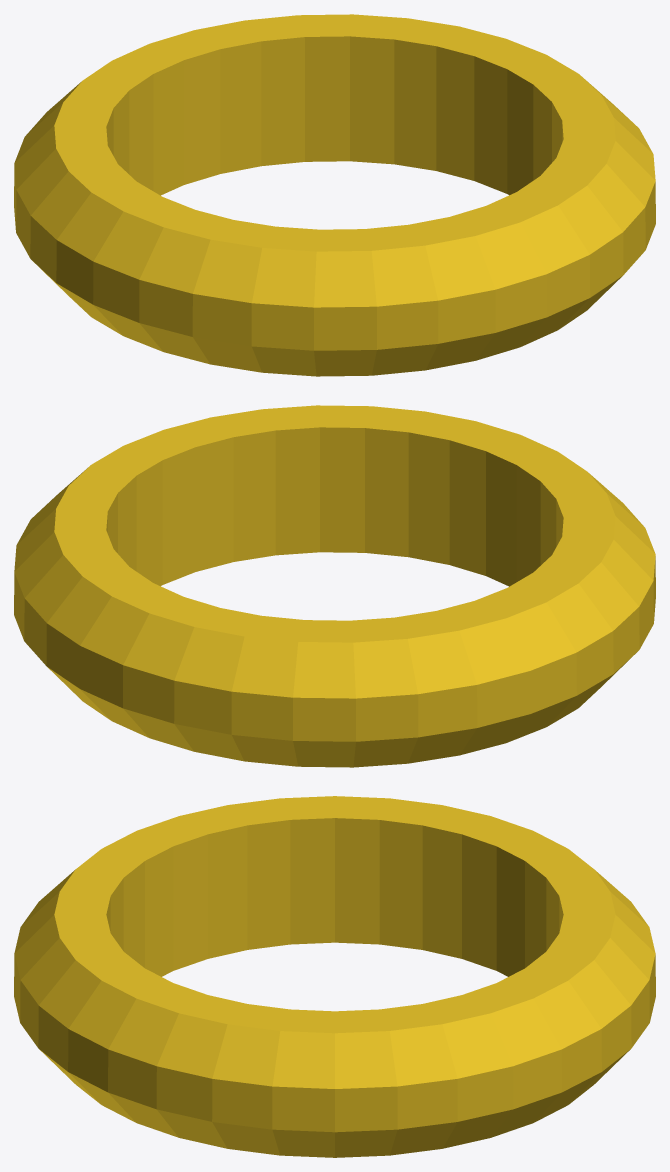
The model's file is sukoa.fbx.
3 renders of one model, top to bottom at view 1: azimuth 30°, elevation 25°; view 2: azimuth 150°, elevation 25°; view 3: azimuth 270°, elevation 25°, orthographic.
Parts seen in each view (by area): view 1: 円柱; view 2: 円柱; view 3: 円柱.
Part boxes in pixels (x1,y1,x2,y2): 円柱: (14,14,655,376); 円柱: (14,405,655,767); 円柱: (14,796,655,1157).
Bounding box in the file's own units: 229 × 229 × 49.
